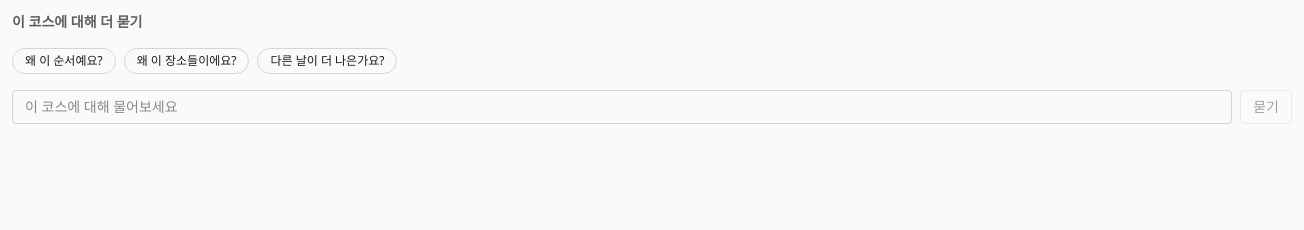
코스 후속 질문 › 질문을 보내면 답과 인용이 그려진다
Type "왜 이 순서예요?" into the field named "이 코스에 대해 더 묻기" at {"x": 622, "y": 107}, box [12,90,1232,124]
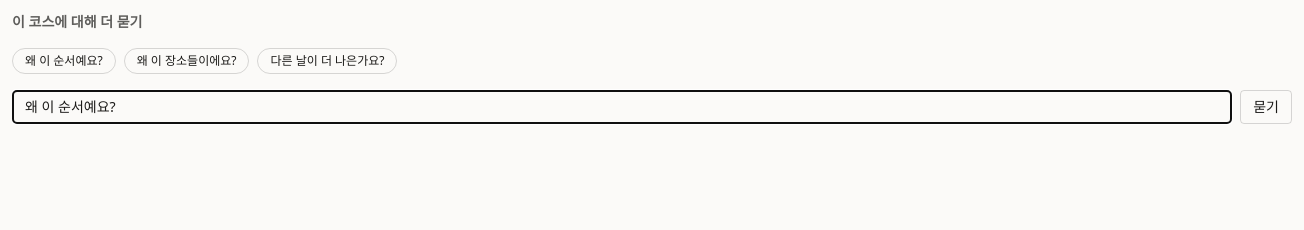
Click the button "묻기" at {"x": 1266, "y": 107}, box [1240,90,1292,124]
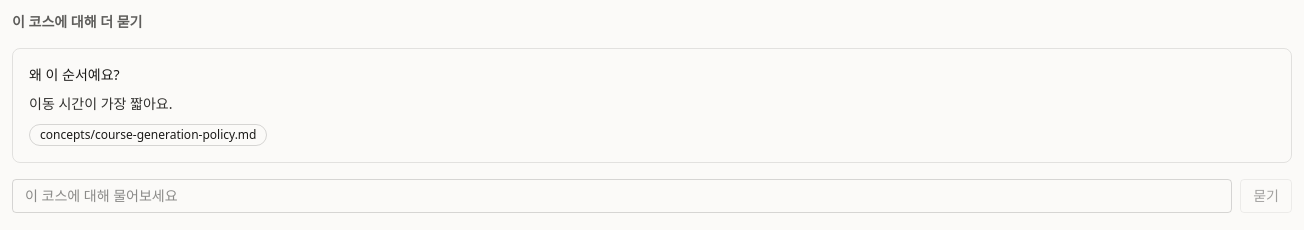
Expected: the text "이동 시간이 가장 짧아요." is shown, [29,94,172,113]
Expected: the button "concepts/course-generation-policy.md" is shown, [29,124,268,146]
